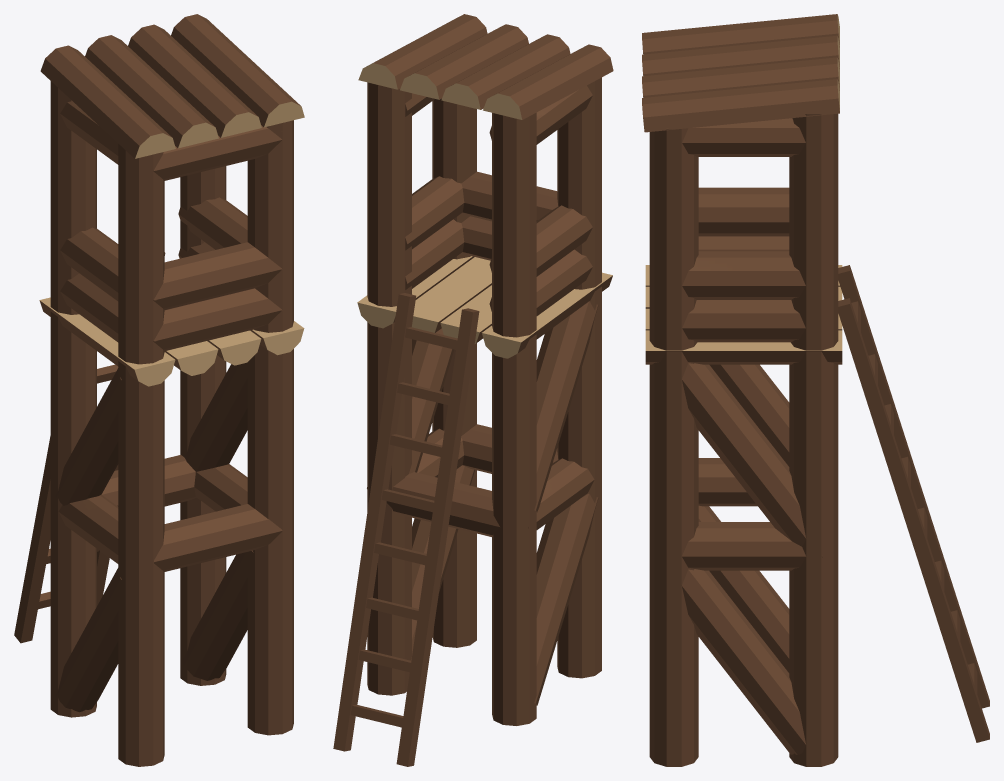
Rendered from Wooden_Tower_Textured.fbx.
The picture shows the model from 3 angles, left to right: view 1: azimuth 30°, elevation 25°; view 2: azimuth 150°, elevation 25°; view 3: azimuth 270°, elevation 25°; orthographic projection. The views are drawn at different scales.
Visible parts, largest first — view 1: Cylinder.012, Cube; view 2: Cylinder.012, Cube; view 3: Cylinder.012, Cube.
Part boxes in pixels (left/top/right/bottom): Cylinder.012: left=39, top=14, right=304, bottom=766; Cube: left=14, top=252, right=165, bottom=643; Cylinder.012: left=357, top=14, right=613, bottom=725; Cube: left=333, top=293, right=479, bottom=766; Cylinder.012: left=642, top=14, right=842, bottom=766; Cube: left=838, top=265, right=989, bottom=742.
Bounding box in the file's own units: 164 × 601 × 281.
2 materials, 2 textured.
